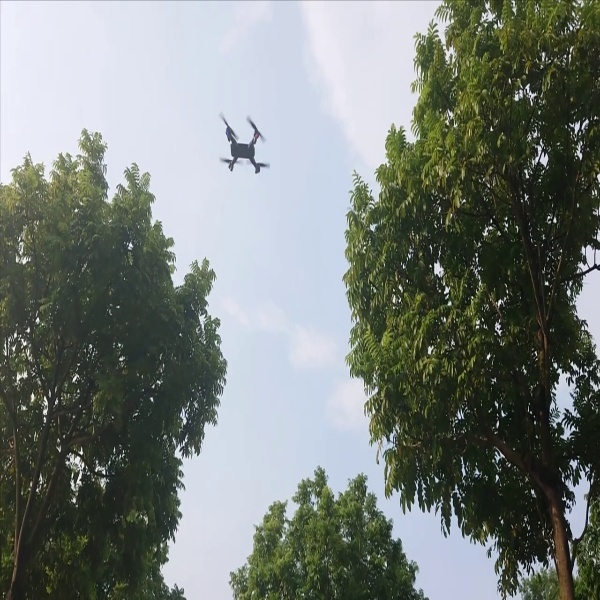drone: (210, 108, 273, 178)
